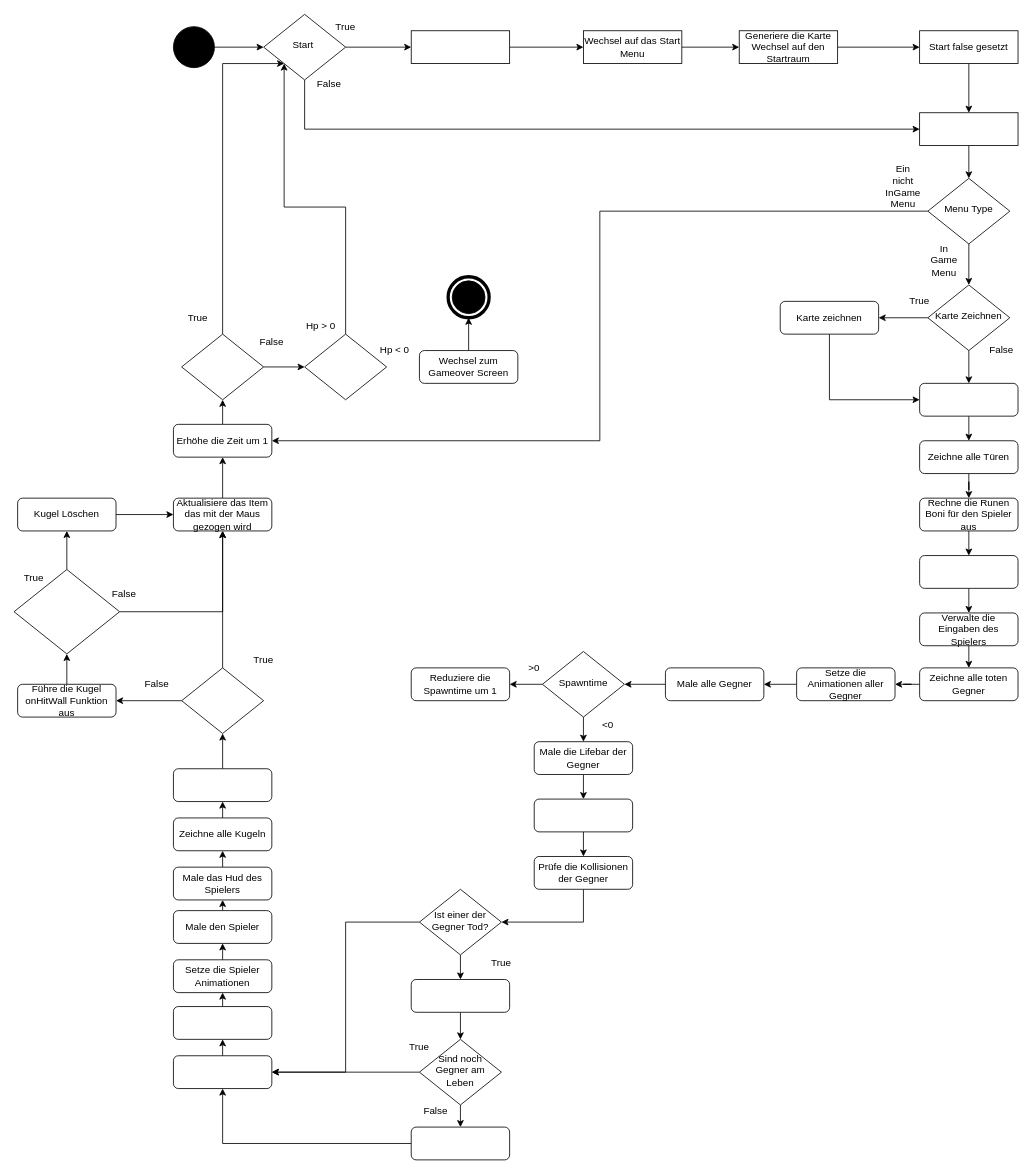
Image size: 1033x1174. Some labels were removed from this diagram. Here are the shapes that lost their labels. From the top down, the box of each, then its label:
(410, 30, 510, 64): Initialisiere Spieler
(919, 112, 1018, 146): Menu Updaten
(181, 333, 264, 400): Godmode
(304, 333, 387, 400): Spieler Hp
(919, 383, 1018, 416): Raum zeichnen
(919, 555, 1018, 588): Verwalte die Kollisionen des Spielers
(13, 569, 120, 654): Soll die Kugel gelöscht werden
(181, 667, 264, 733): Ist die Kugel noch im Raum
(173, 768, 272, 802): Bewege alle Kugeln
(533, 798, 633, 832): Führe die Action Methode jedes Gegners aus
(410, 979, 510, 1012): Lösche ihn aus der Liste der lebenden Gegnern
(173, 1006, 272, 1039): Führe alle Item Hover Events aus
(173, 1055, 272, 1089): Male alle Items
(410, 1126, 510, 1160): Öffne alle Türen
